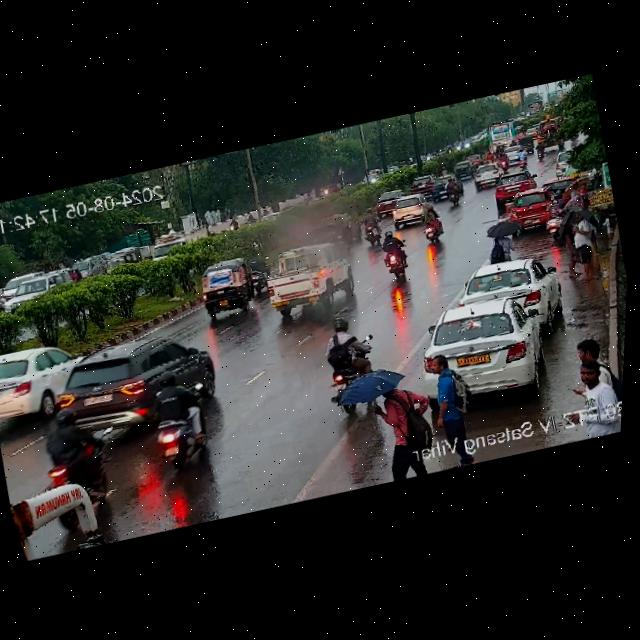bus: (6, 475, 108, 562), (487, 120, 523, 146)
car: (31, 322, 231, 434), (415, 293, 551, 395), (456, 250, 563, 327), (0, 335, 88, 420), (195, 256, 264, 317), (4, 268, 71, 310), (507, 183, 561, 231), (385, 191, 438, 230), (489, 166, 538, 204), (315, 210, 363, 245), (103, 243, 143, 274), (369, 187, 410, 215), (469, 161, 504, 189), (469, 163, 502, 188), (371, 187, 407, 205), (405, 174, 437, 194), (448, 159, 476, 179), (516, 131, 536, 153), (461, 153, 484, 169), (431, 177, 448, 197), (505, 144, 520, 160)
motorcycle: (130, 366, 221, 470), (34, 398, 111, 495), (316, 310, 386, 413), (376, 227, 412, 281), (357, 202, 384, 250), (244, 245, 271, 292), (418, 212, 448, 245), (442, 176, 467, 206), (504, 150, 530, 171), (485, 144, 505, 159), (532, 142, 546, 161), (227, 215, 238, 229)
person: (376, 380, 434, 475), (421, 347, 475, 443), (559, 330, 619, 400), (566, 207, 605, 286), (551, 211, 585, 280), (481, 222, 521, 264), (571, 180, 595, 209)
truck: (257, 236, 364, 322), (536, 112, 568, 152)
